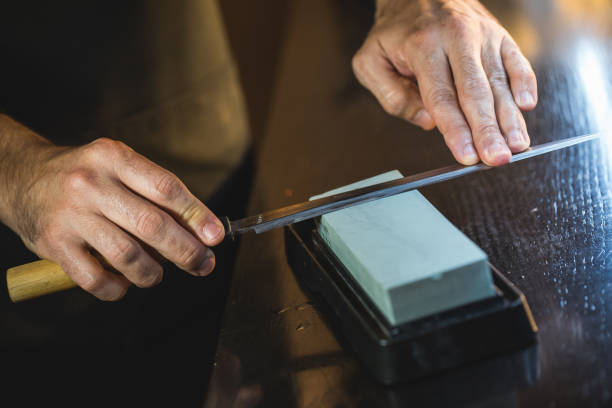knife: (5, 130, 605, 305)
